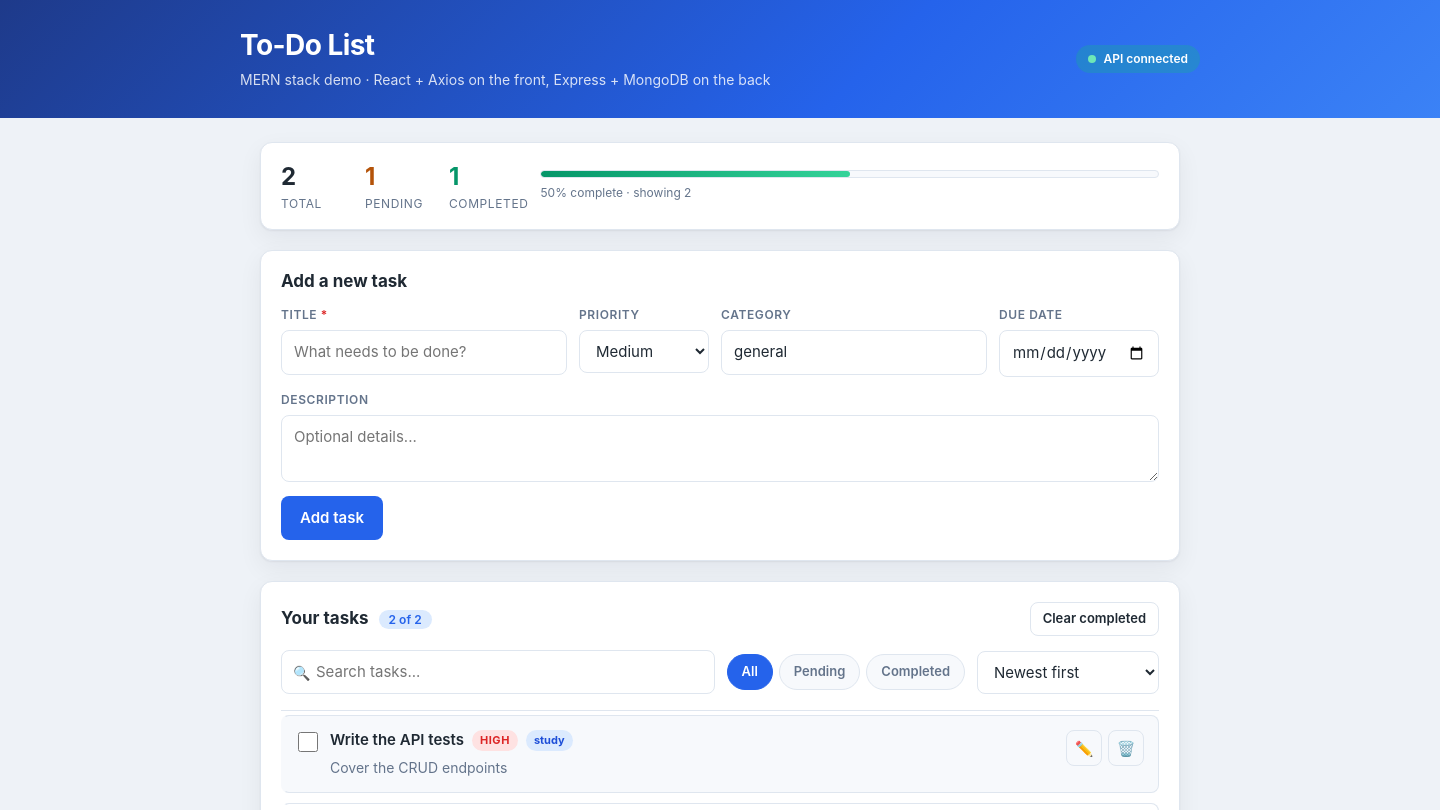
Test: App - creating a task › blocks submission and shows a message when the title is empty
This screenshot has width=1440, height=810.
Expected: the heading "Write the API tests" is shown, [330,731,464,750]
Click the button "Add task" at (332, 518), box [281,496,383,540]
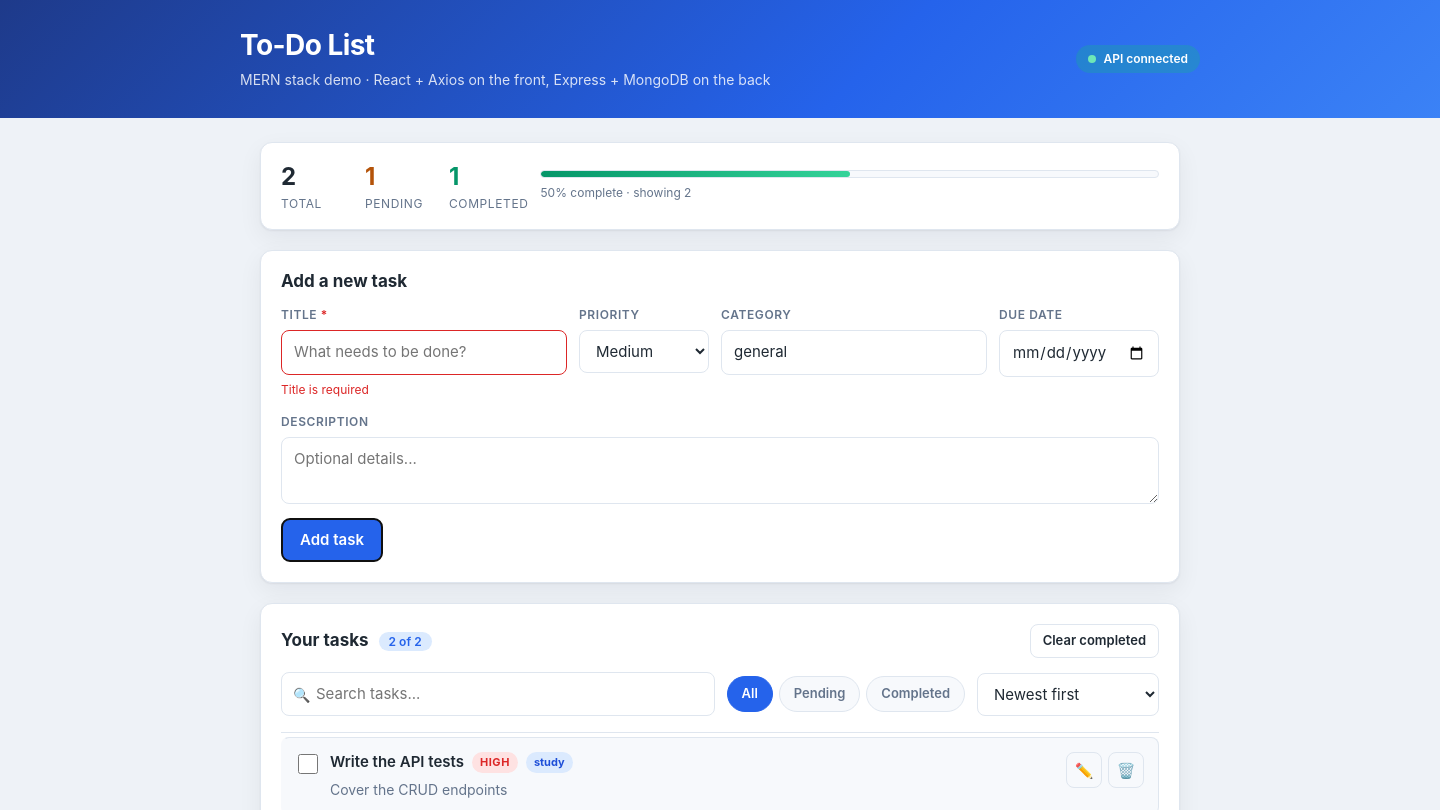
Now the text "Title is required" is shown, box [281,382,369,397]
